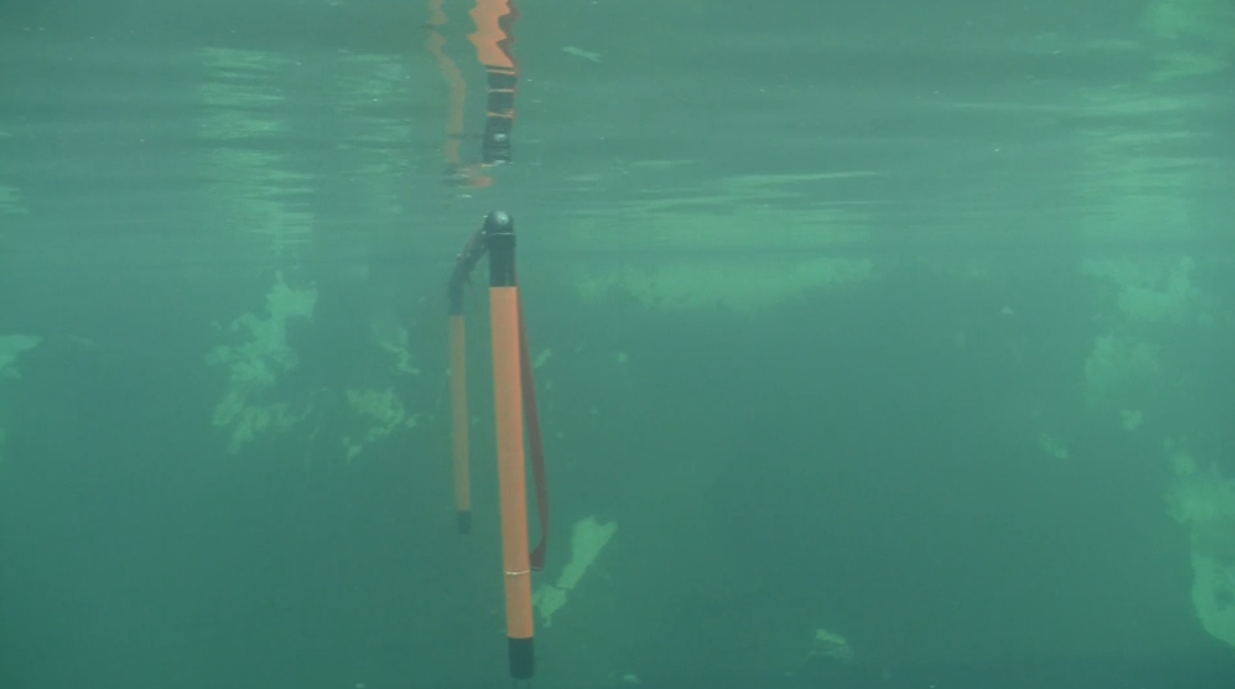gate: (445, 201, 539, 687)
